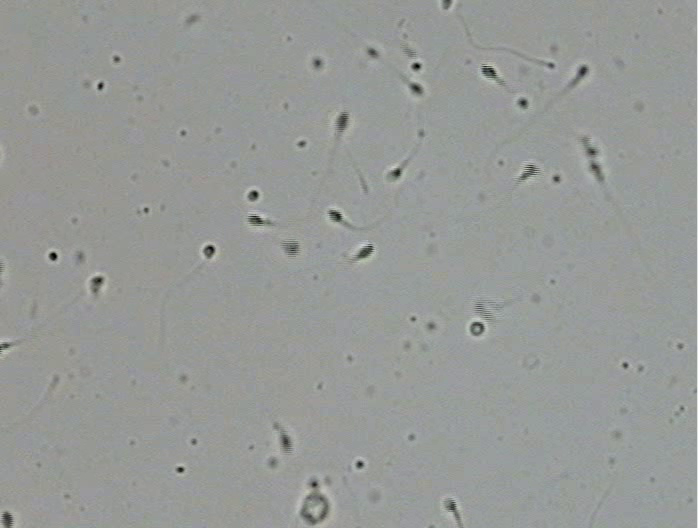Impurity: (299, 479, 329, 525)
S: (580, 136, 599, 158), (280, 238, 300, 258), (518, 163, 540, 181), (474, 302, 493, 321), (334, 111, 349, 132), (357, 243, 375, 259), (480, 63, 497, 79), (89, 276, 104, 292), (280, 433, 292, 453), (589, 161, 602, 179), (469, 321, 484, 336), (327, 209, 343, 223), (1, 511, 14, 528), (408, 81, 424, 94), (443, 498, 457, 512), (386, 168, 401, 181), (247, 214, 263, 226), (403, 46, 417, 59), (203, 245, 215, 258), (577, 65, 588, 79), (247, 190, 259, 201), (517, 98, 529, 109), (366, 47, 378, 58), (1, 341, 10, 354), (441, 1, 451, 10), (411, 62, 421, 71), (313, 59, 322, 68)
